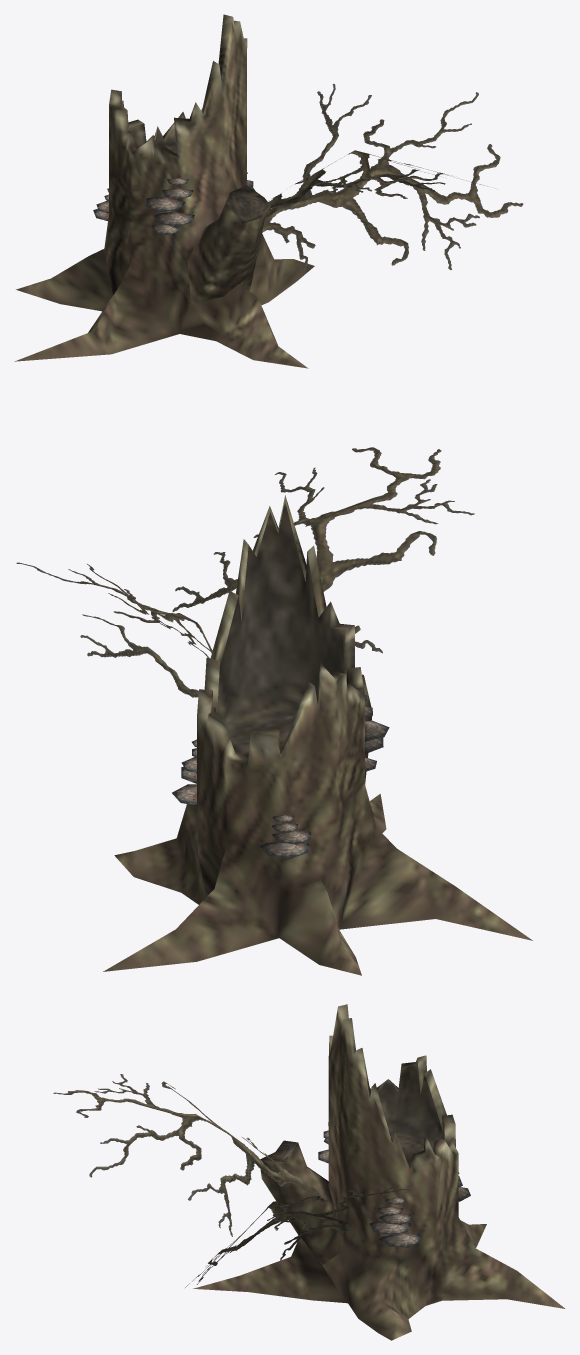
Rendered from Scene_Tree_03.FBX.
3 renders of one model, top to bottom at view 1: azimuth 30°, elevation 25°; view 2: azimuth 150°, elevation 25°; view 3: azimuth 270°, elevation 25°, orthographic. The views are drawn at different scales.
Parts seen in each view (by area): view 1: Scene_Tree_03; view 2: Scene_Tree_03; view 3: Scene_Tree_03.
Boxes of the visible parts, left/top/right/bottom form: Scene_Tree_03: left=14, top=14, right=523, bottom=368; Scene_Tree_03: left=16, top=447, right=532, bottom=975; Scene_Tree_03: left=53, top=1004, right=565, bottom=1340.
Bounding box in the file's own units: 10.43 × 6.29 × 10.76.
